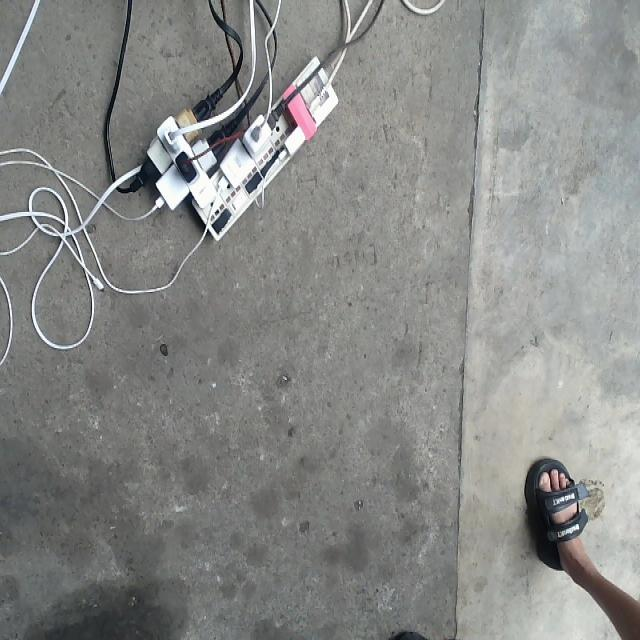-: (142, 53, 337, 239)
